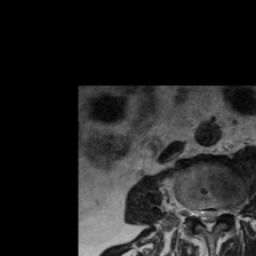CCS_normal: (205, 202, 213, 238)
LFS_stenosis: (221, 197, 230, 220)
LLS_stenosis: (213, 202, 221, 231)
RFS_normal: (189, 199, 197, 226)
RLS_normal: (197, 202, 205, 229)
